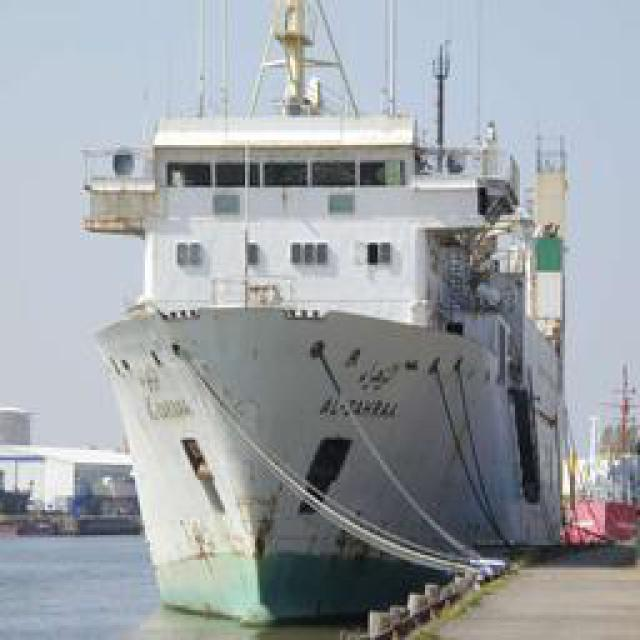Ship: (91, 141, 584, 619)
